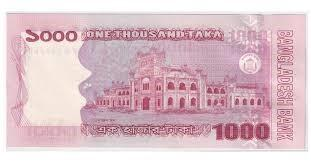1000 tk: (6, 11, 306, 149)
